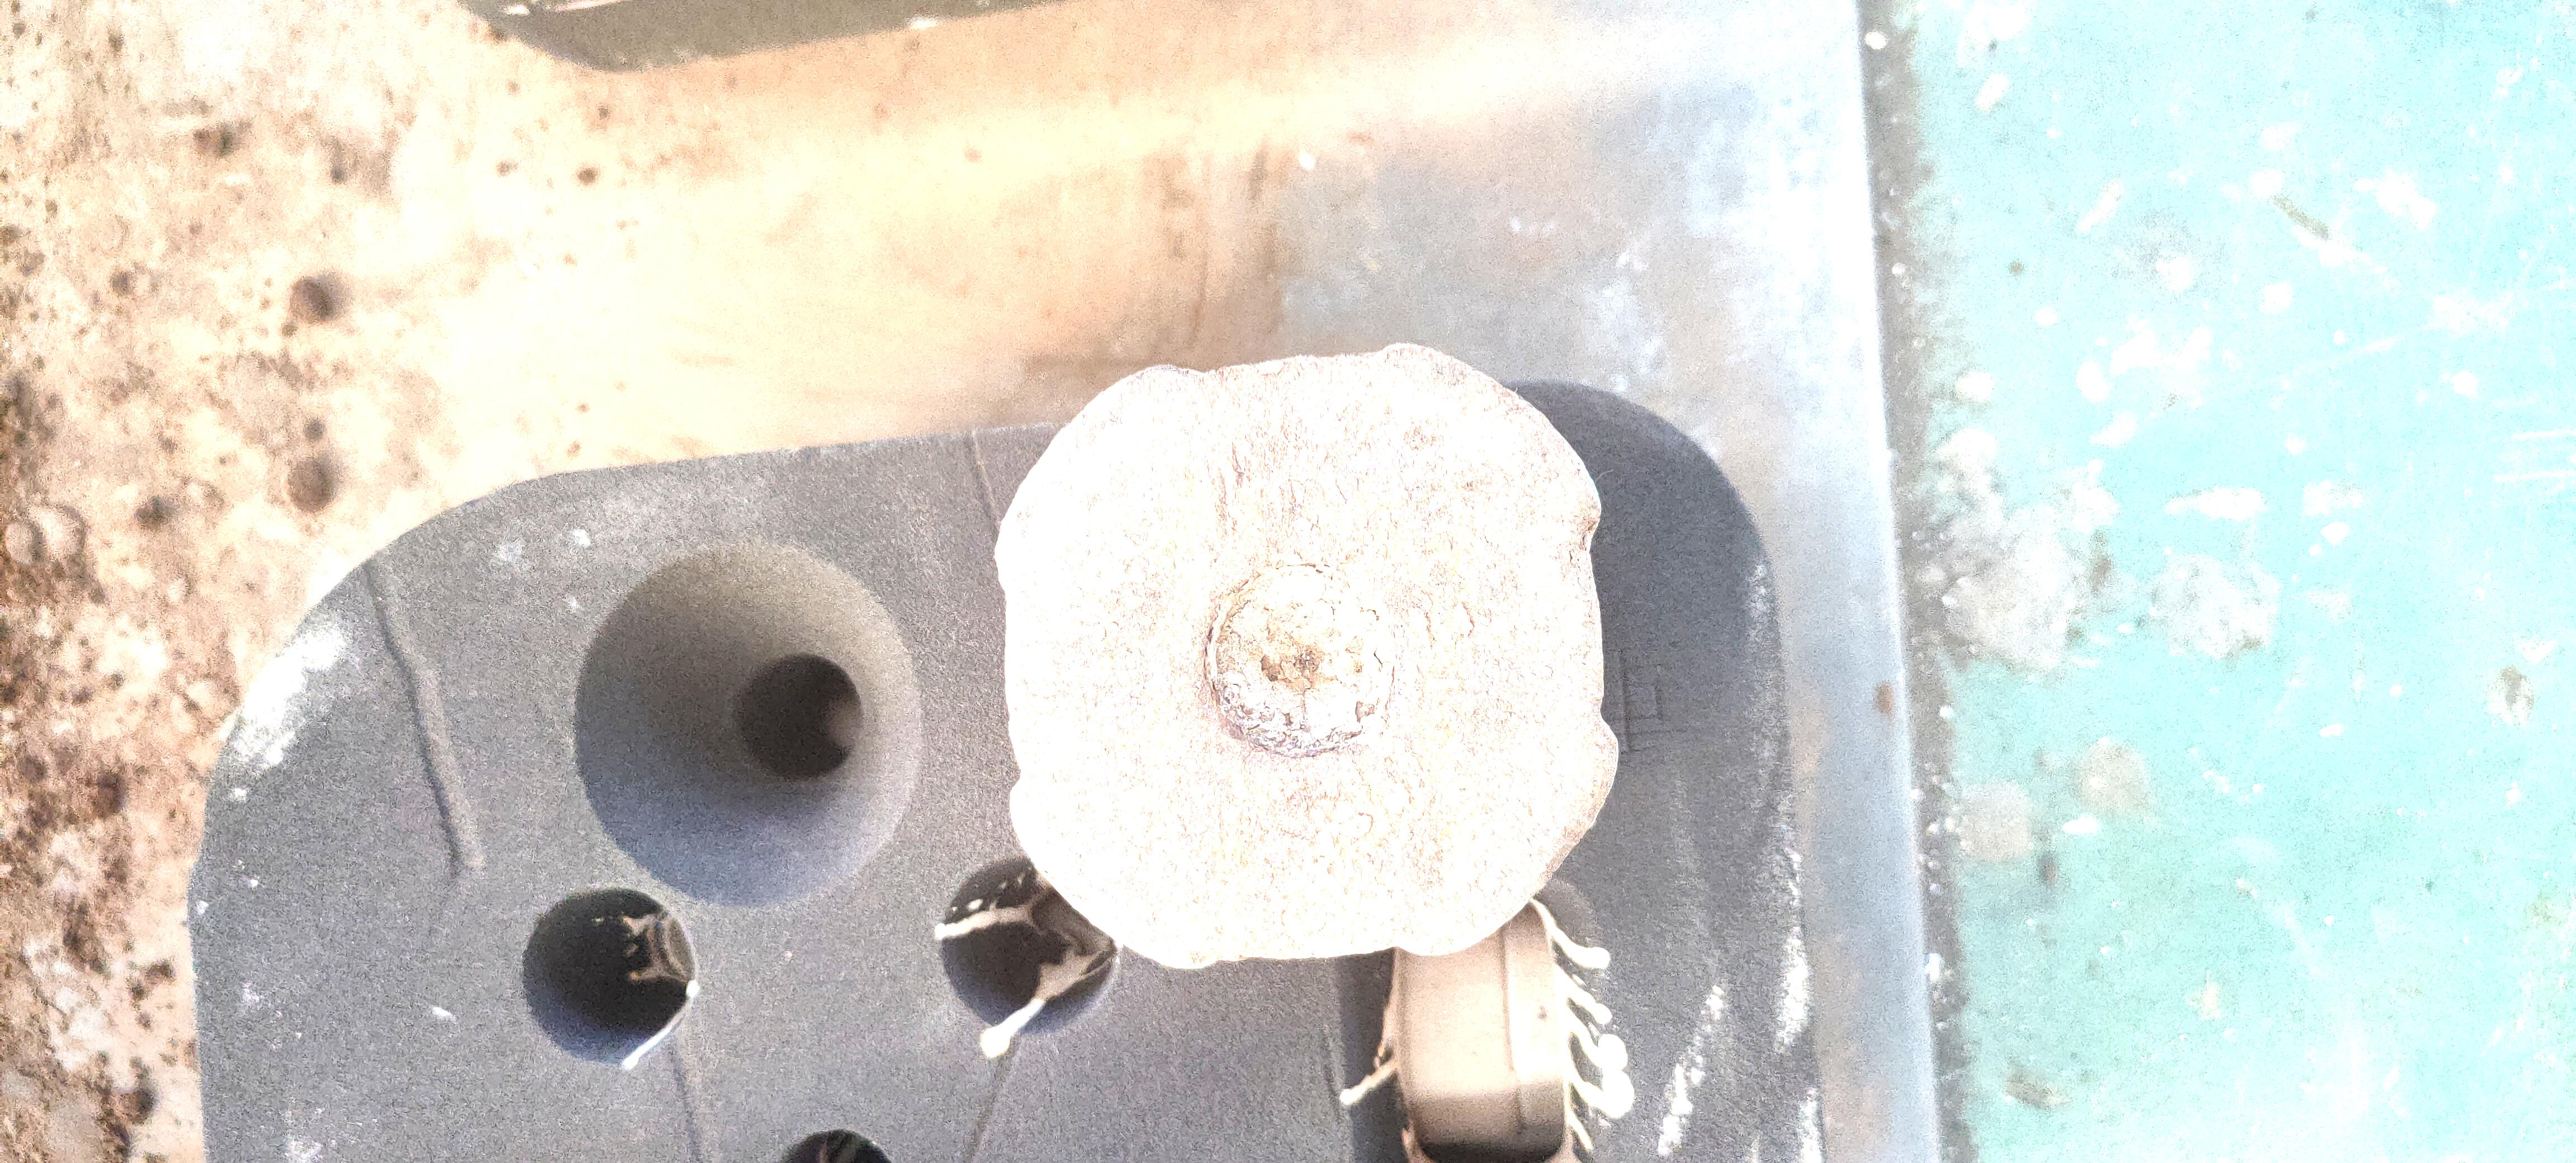pouring hole: (572, 547, 923, 912)
